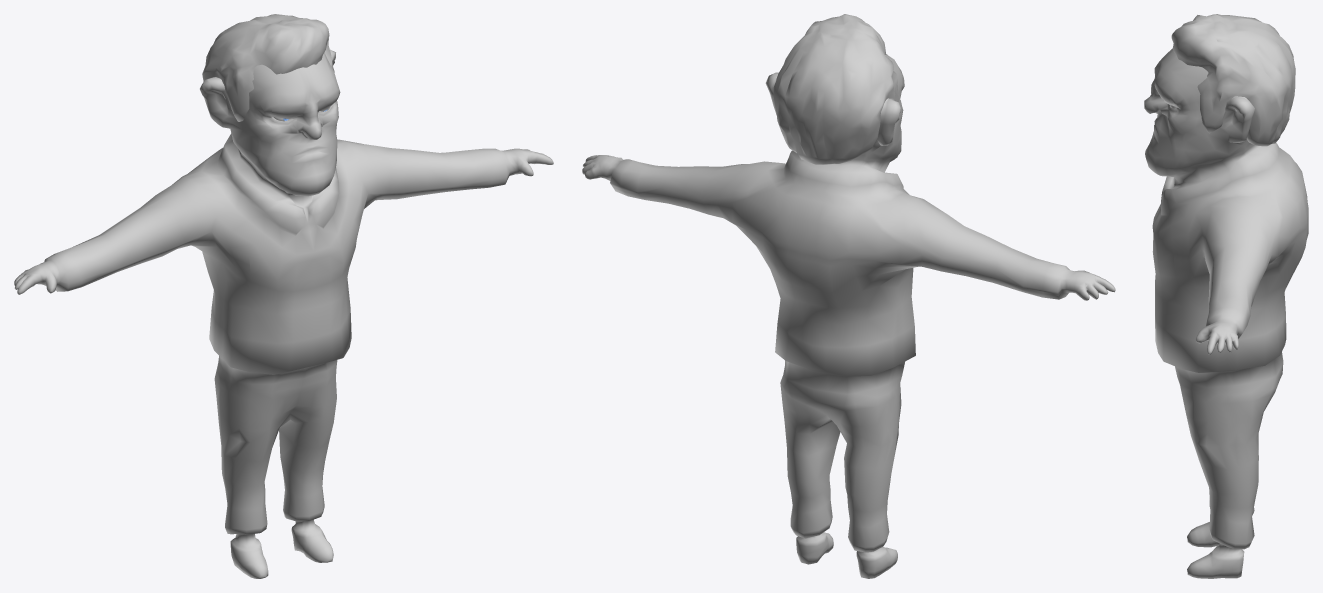
Rendered from Security Guard_2.obj.
3 views of the same model, side by side, from view 1: azimuth 30°, elevation 25°; view 2: azimuth 150°, elevation 25°; view 3: azimuth 270°, elevation 25° (orthographic).
Parts seen in each view (by area): view 1: Guard_1___LP_Plane, Hair_LP_Sphere.000; view 2: Guard_1___LP_Plane, Hair_LP_Sphere.000; view 3: Guard_1___LP_Plane, Hair_LP_Sphere.000.
Boxes of the visible parts, box(x1,y1,x2,y2) form: Guard_1___LP_Plane: box(14, 49, 553, 578); Hair_LP_Sphere.000: box(202, 14, 334, 121); Guard_1___LP_Plane: box(582, 54, 1115, 578); Hair_LP_Sphere.000: box(773, 14, 898, 164); Guard_1___LP_Plane: box(1144, 48, 1308, 578); Hair_LP_Sphere.000: box(1171, 14, 1295, 146).
Bounding box in the file's own units: 11.18 × 10.8 × 2.97.
